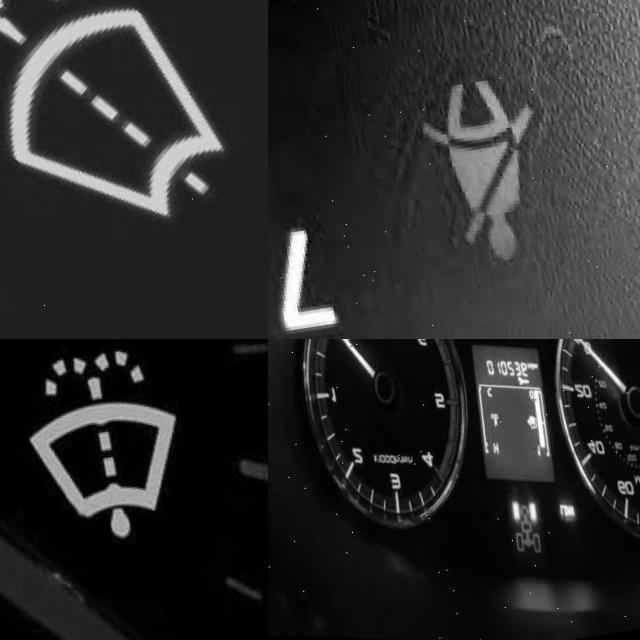Seat Belt: (408, 84, 550, 276)
Washer Fluid: (0, 0, 214, 247), (5, 352, 180, 557)
